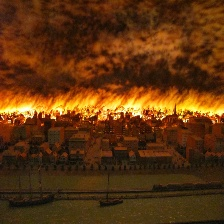fire: (2, 90, 224, 118)
